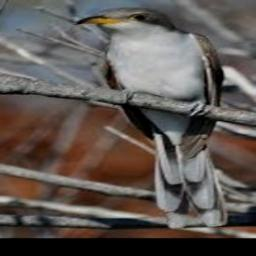Cuckoo: (76, 7, 226, 226)
